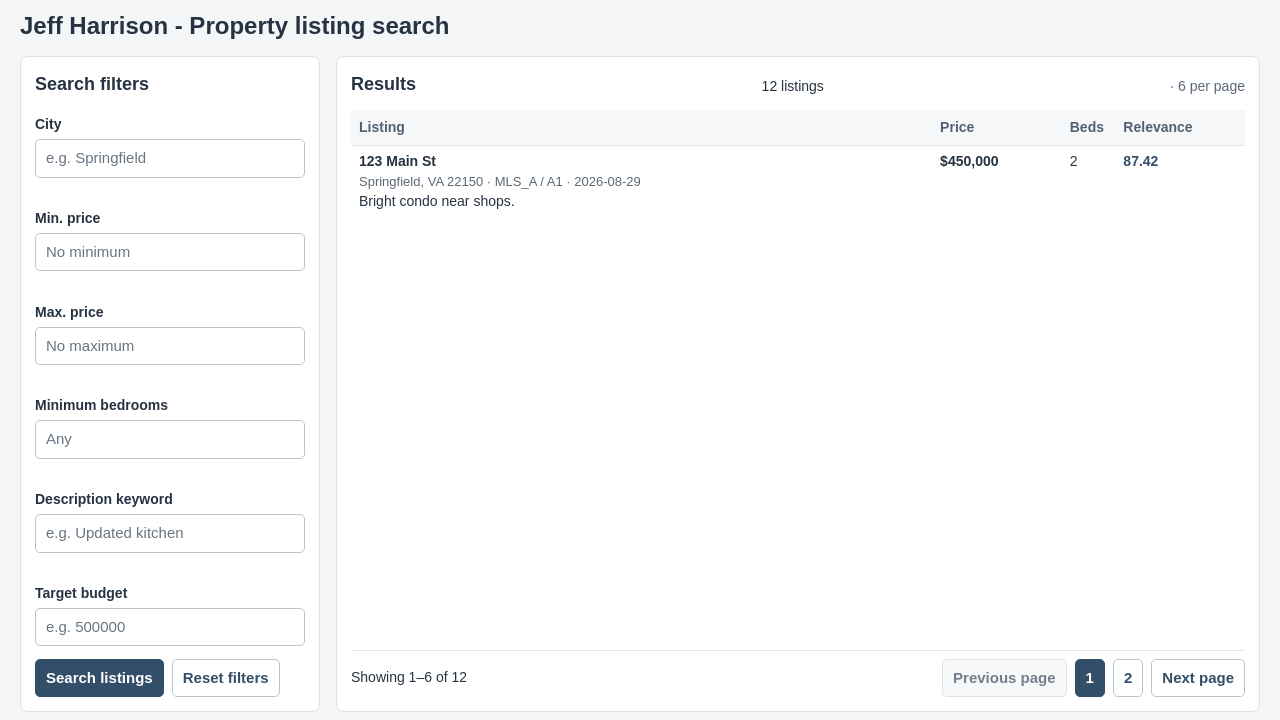
listing search › refreshes the default query when resetting draft filters
expect the text "$450,000" is shown: met, box [932,145,1062,650]
Step 1. Type "Reston" into the field labelled "City" → (170, 158), box [35,139,305,178]
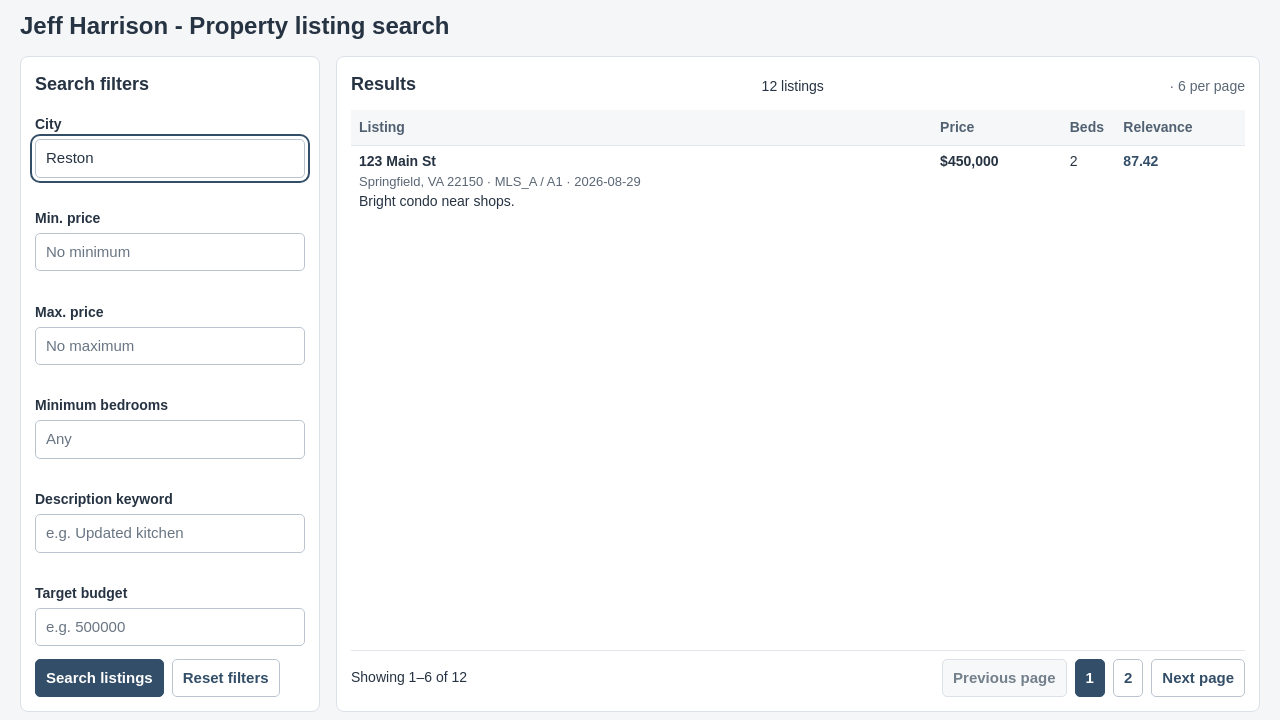
Step 2. Click the button "Reset filters" → (226, 678), box [172,658,280,697]
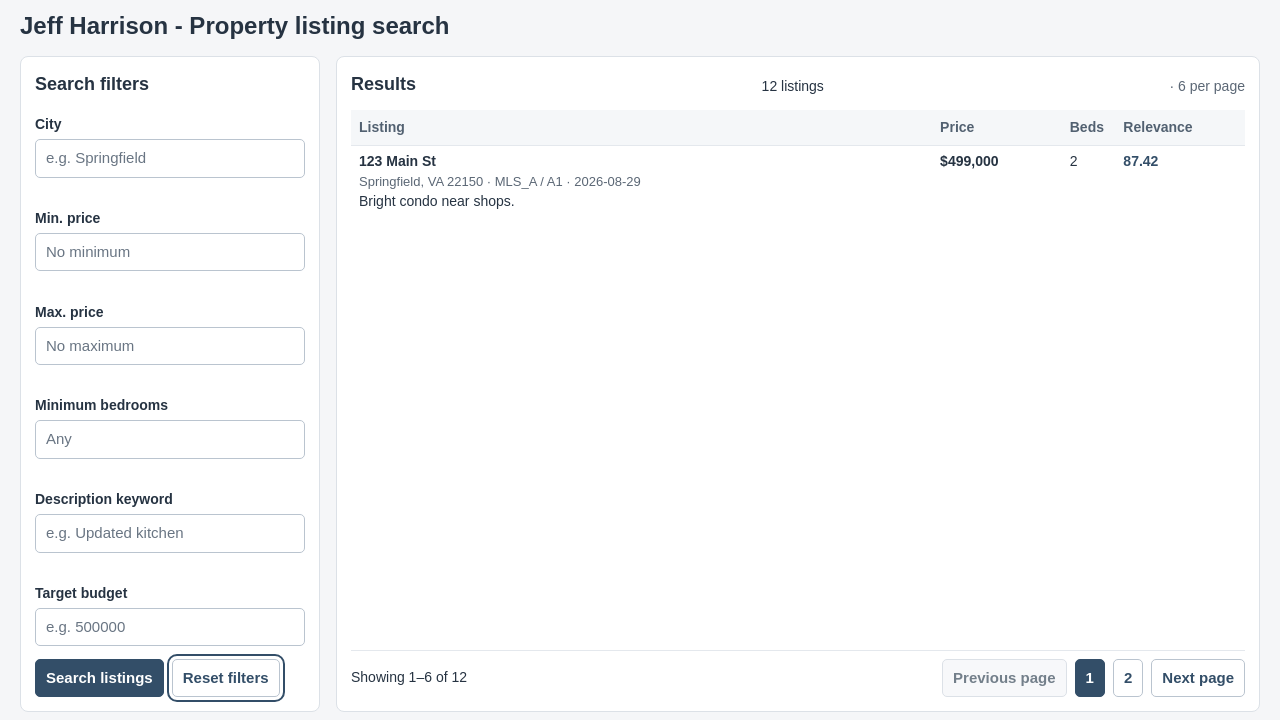
expect the text "$499,000" is shown: met, box [932,145,1062,650]
expect the field labelled "City" is empty: met, box [35,139,305,178]
